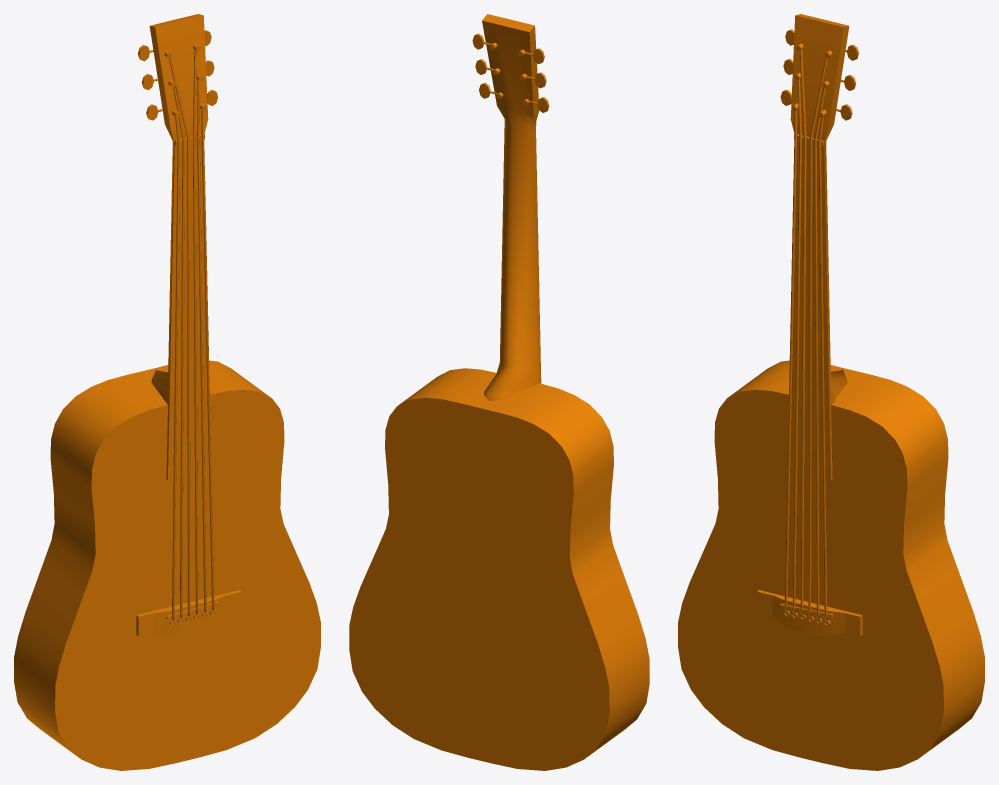
The model's file is GUITAR.FBX.
3 views of the same model, side by side, from view 1: azimuth 30°, elevation 25°; view 2: azimuth 150°, elevation 25°; view 3: azimuth 330°, elevation 25° (orthographic). The views are drawn at different scales.
Parts seen in each view (by area): view 1: Plane002; view 2: Plane002; view 3: Plane002.
Part boxes in pixels (box(x1,y1,x2,y2)): Plane002: box(14, 14, 320, 770); Plane002: box(349, 14, 649, 770); Plane002: box(678, 14, 984, 770).
Size of the model in its own units: 288 by 763 by 87.89.
